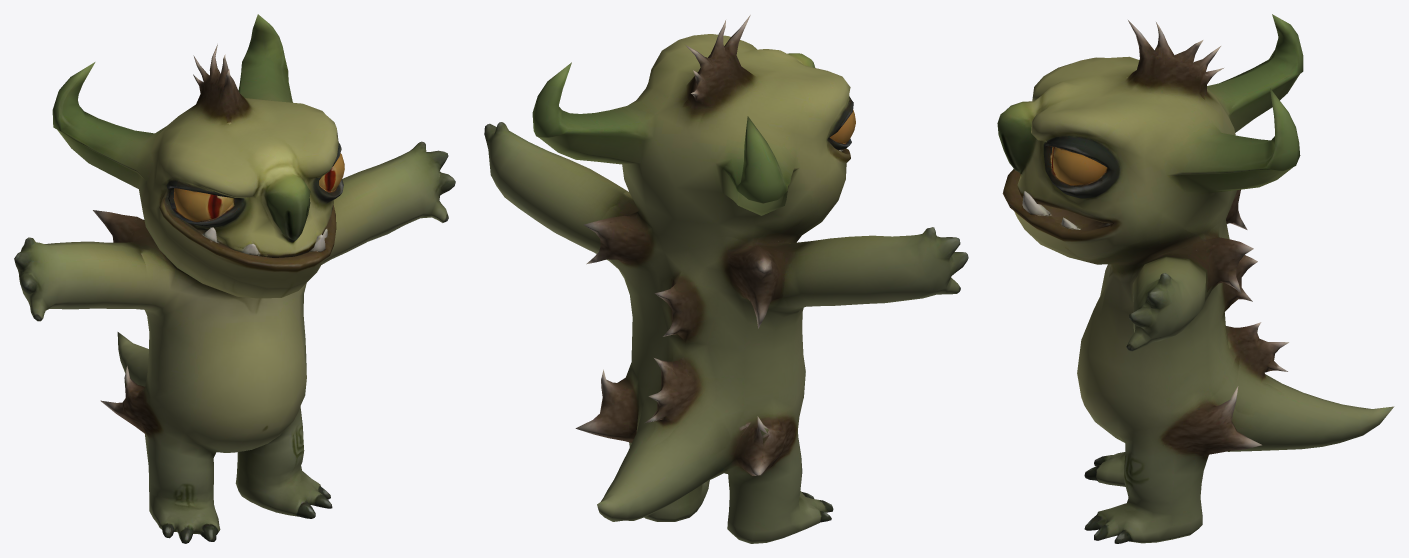
The picture shows the model from 3 angles, left to right: view 1: azimuth 30°, elevation 25°; view 2: azimuth 150°, elevation 25°; view 3: azimuth 270°, elevation 25°; orthographic projection. The views are drawn at different scales.
Parts seen in each view (by area): view 1: tripo_node_12459a02-4210-4f83-b8f5-7f56e09bb7c8; view 2: tripo_node_12459a02-4210-4f83-b8f5-7f56e09bb7c8; view 3: tripo_node_12459a02-4210-4f83-b8f5-7f56e09bb7c8.
Part boxes in pixels (left/top/right/bottom): tripo_node_12459a02-4210-4f83-b8f5-7f56e09bb7c8: left=14, top=14, right=455, bottom=543; tripo_node_12459a02-4210-4f83-b8f5-7f56e09bb7c8: left=484, top=15, right=968, bottom=543; tripo_node_12459a02-4210-4f83-b8f5-7f56e09bb7c8: left=997, top=14, right=1394, bottom=543.
Size of the model in its own units: 0.9863 by 0.998 by 0.7402.
1 material, 1 textured.
